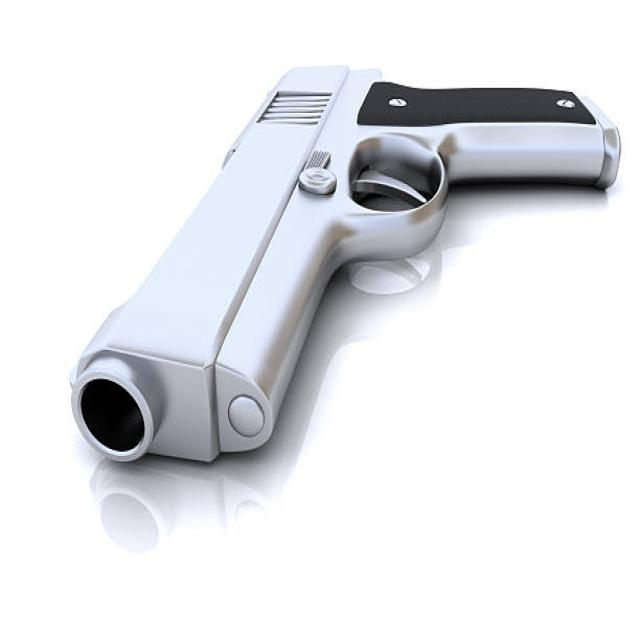pistol: (71, 64, 622, 468)
